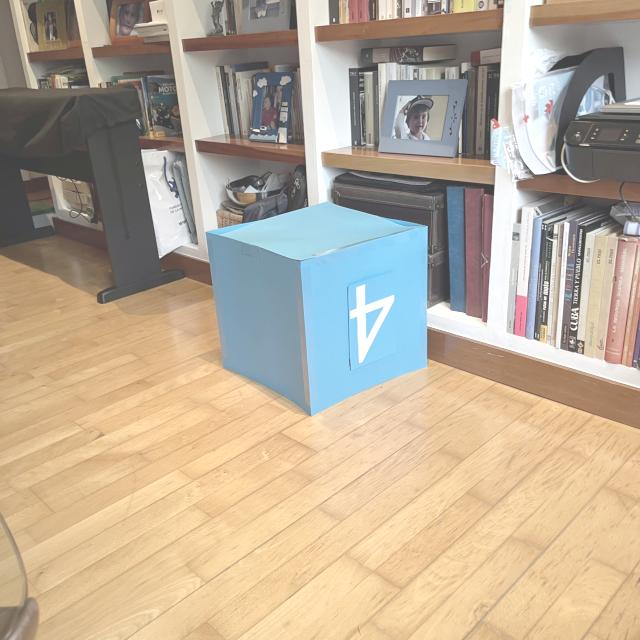box: (202, 198, 432, 417)
